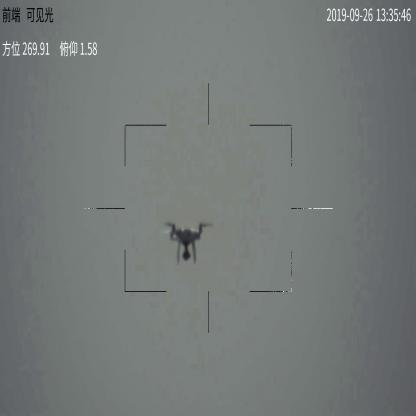uav: (163, 222, 214, 263)
